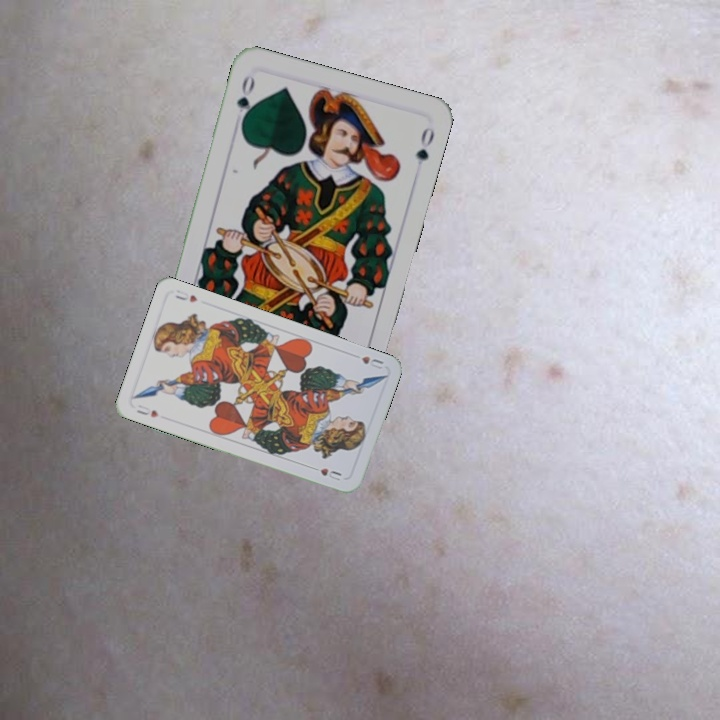GO: (232, 71, 258, 129)
HU: (132, 400, 161, 420), (358, 352, 386, 372)
